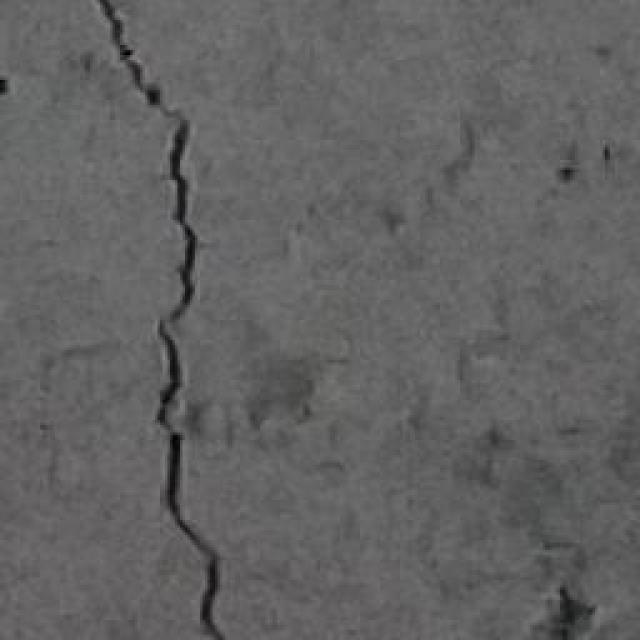Longitudinal: (83, 0, 245, 640)
